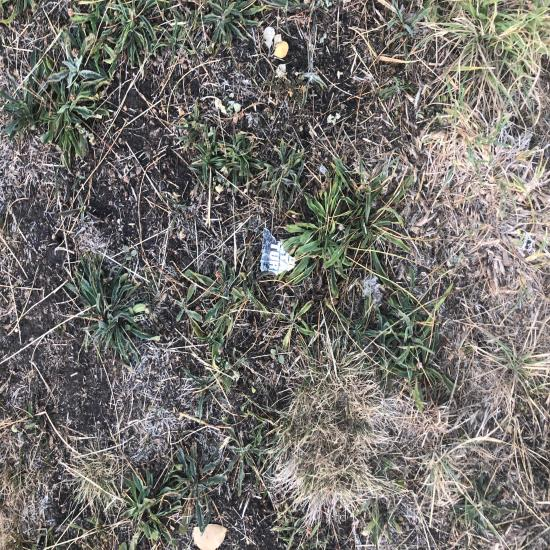Clear plastic bottle: (135, 155, 170, 228)
Plastic bottle cap: (99, 469, 111, 485)
Unlabeled litter: (142, 315, 150, 353), (168, 415, 176, 429)
